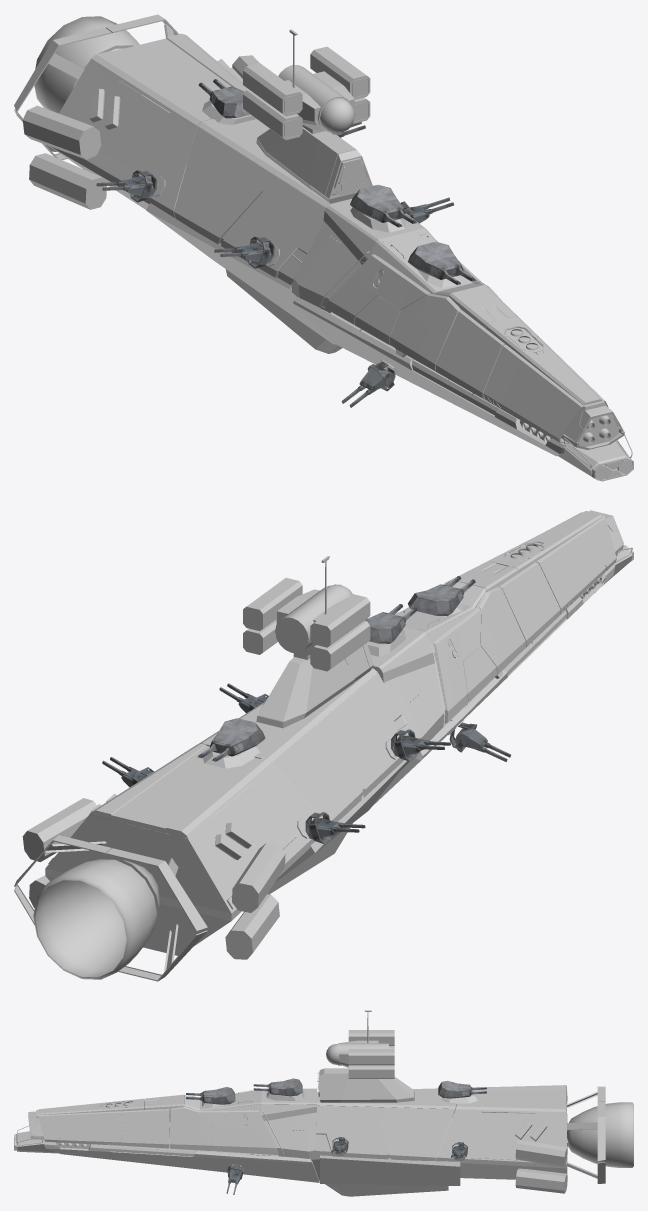
Rendered from ship_1.fbx.
3 views of the same model, one above another, from view 1: azimuth 30°, elevation 25°; view 2: azimuth 150°, elevation 25°; view 3: azimuth 270°, elevation 25° (orthographic). The views are drawn at different scales.
Parts seen in each view (by area): view 1: Cube.037, Plane.031, Plane.019, Plane.041; view 2: Cube.037, Plane.041, Plane.019, Plane.031; view 3: Cube.037, Plane.041, Plane.031, Plane.019.
Part boxes in pixels (box(x1,y1,x2,y2)): Cube.037: box(14, 14, 633, 481); Plane.031: box(350, 184, 405, 222); Plane.019: box(408, 241, 463, 279); Plane.041: box(209, 86, 250, 118); Cube.037: box(14, 510, 633, 981); Plane.041: box(209, 718, 265, 756); Plane.019: box(408, 584, 463, 616); Plane.031: box(364, 612, 405, 643); Cube.037: box(14, 1010, 633, 1196); Plane.041: box(438, 1080, 470, 1098); Plane.031: box(270, 1078, 302, 1096); Plane.019: box(203, 1087, 235, 1104).
Size of the model in its own units: 1804 by 2042 by 6394.
